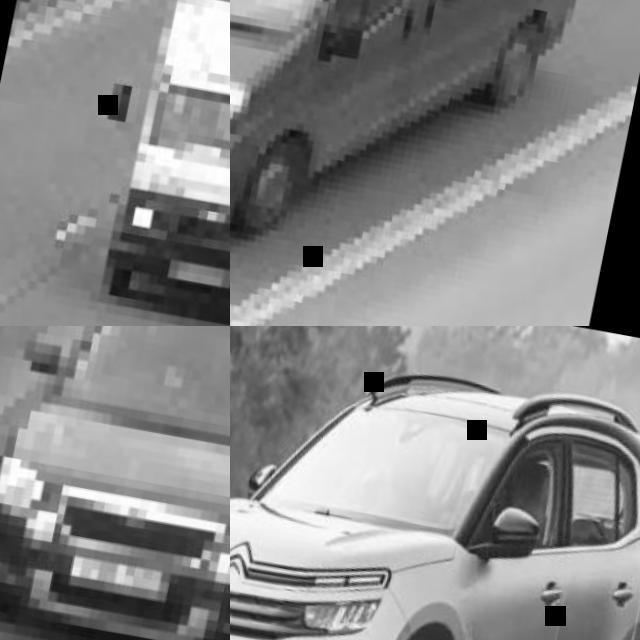car: (237, 369, 639, 639)
